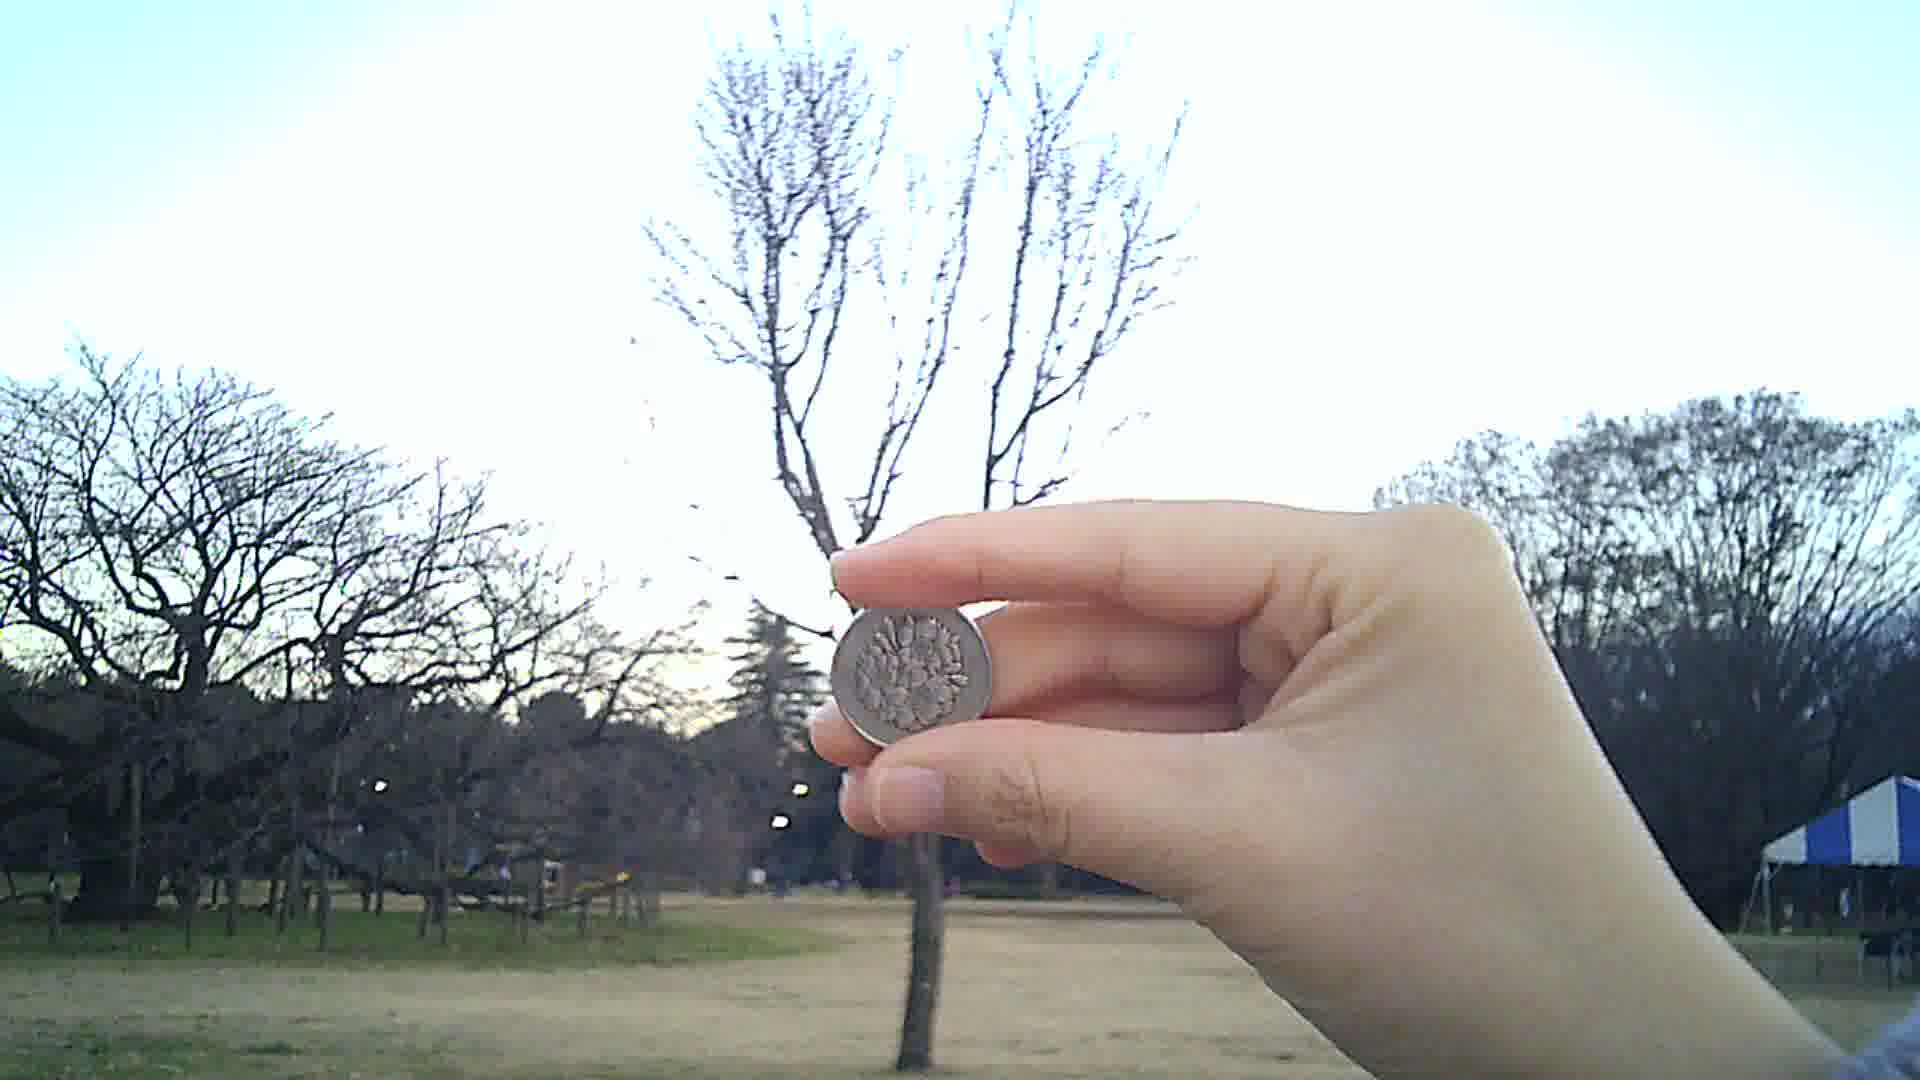100 Yen: (824, 604, 997, 752)
